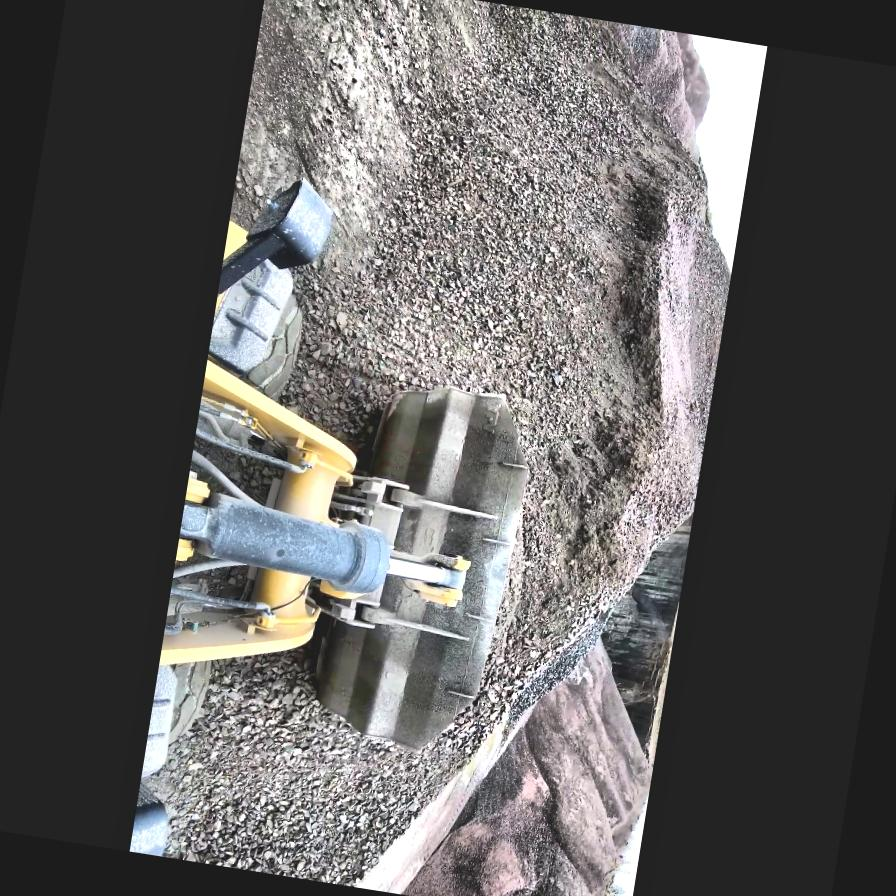anchor: (382, 544, 471, 608)
pile of gravel: (165, 0, 767, 896), (340, 598, 672, 896), (512, 714, 644, 895)
